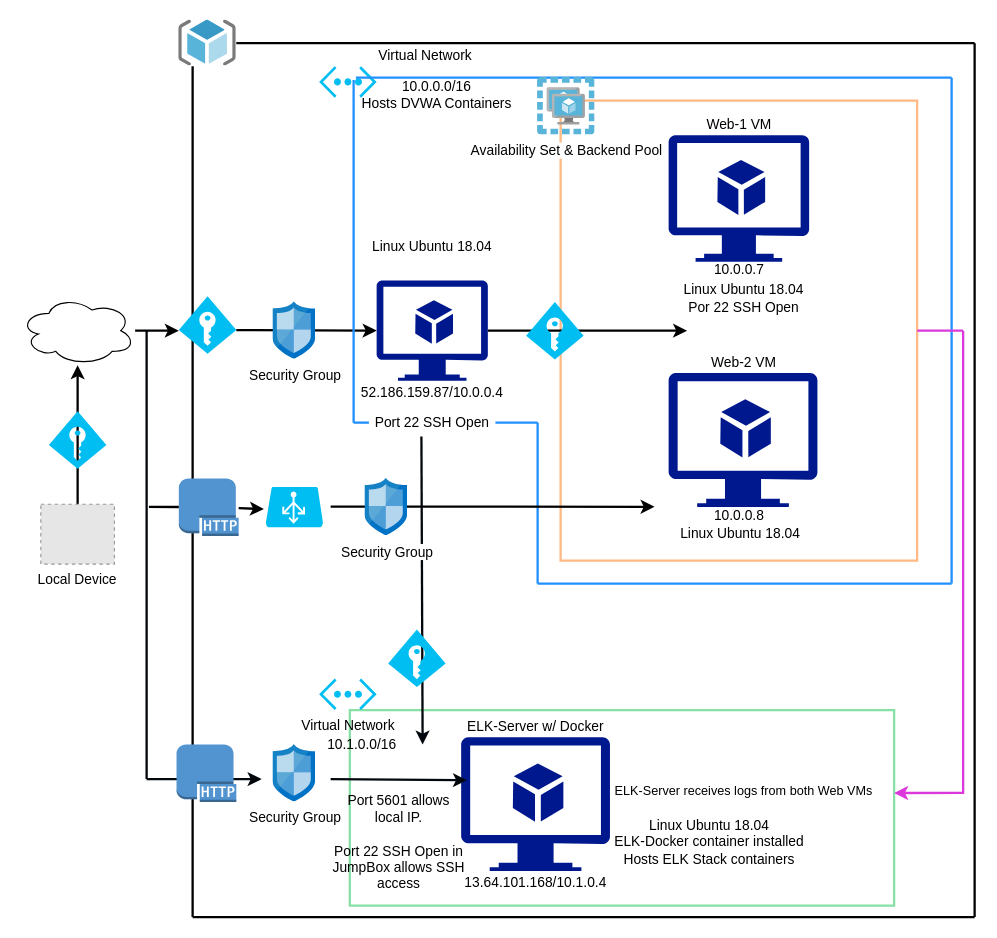
The diagram is 997 pixels wide and 938 high, and some of its shapes have lost their labels. Grey dashed boxes stand in for pictures. The centre of each missing label's shape, as x and y in pixels:
Internet: the point at 77,330
JumpBox Provisioner VM: the point at 431,330
Load Balancer 13.90.94.34: the point at 294,506
Port 5601: the point at 206,773
Resource Group: the point at 207,43
